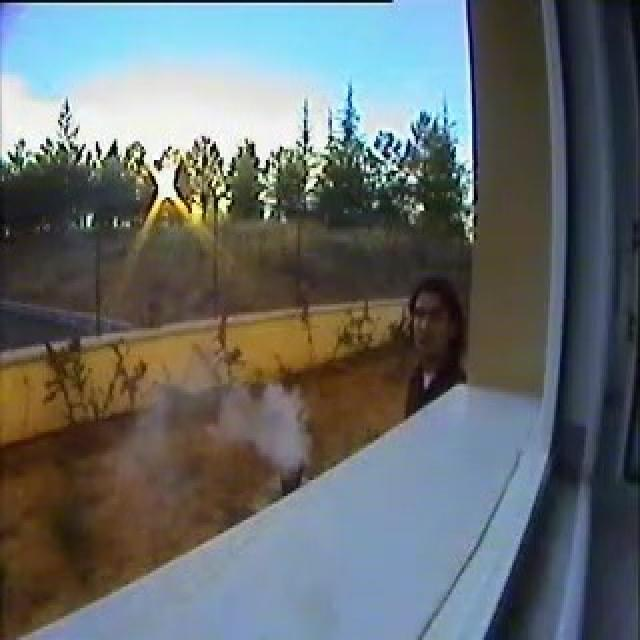smoke: (217, 400, 309, 460)
